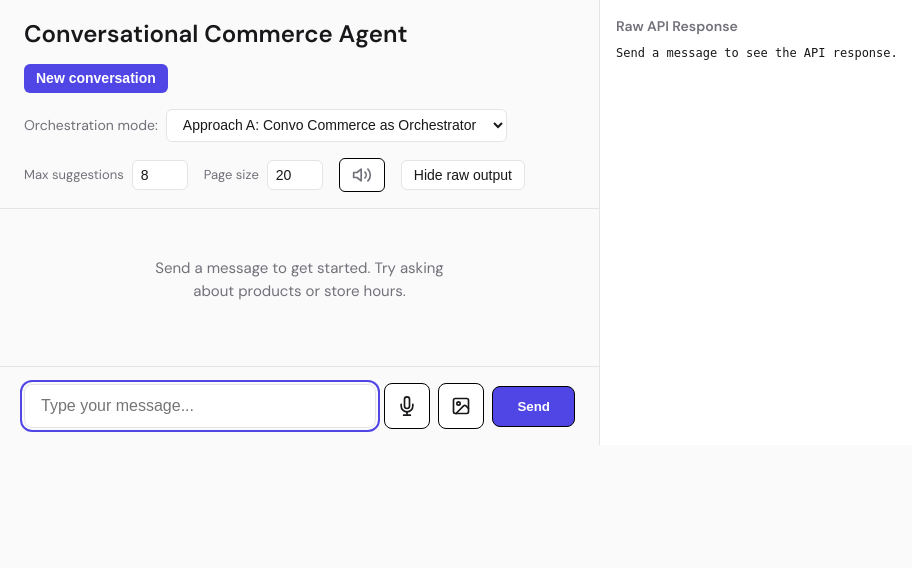
Test case: ChatInterface › retries failed message when Retry is clicked
In the field named "Chat message": {"x": 200, "y": 406} [24, 384, 376, 428], type "hello"
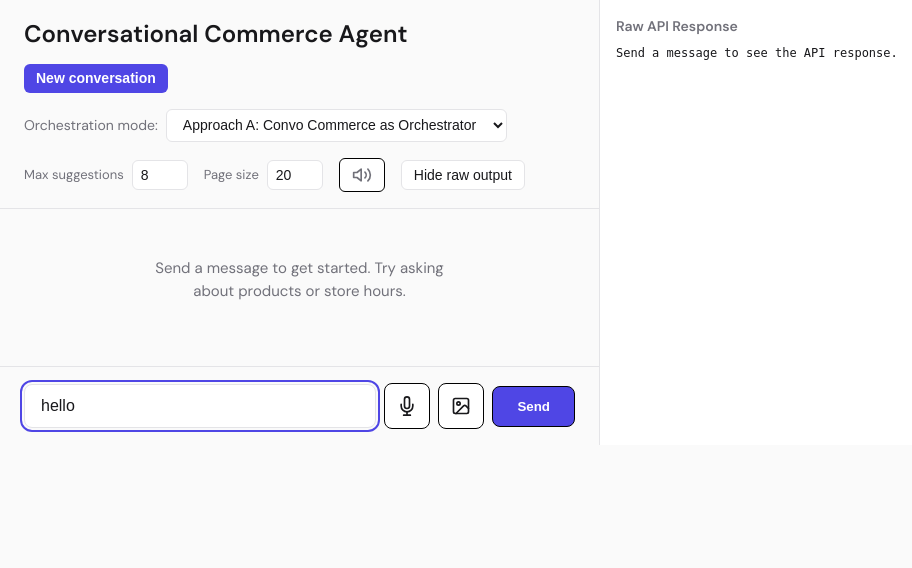
Click the button with aria-label "Send message": {"x": 534, "y": 406} [492, 386, 575, 427]
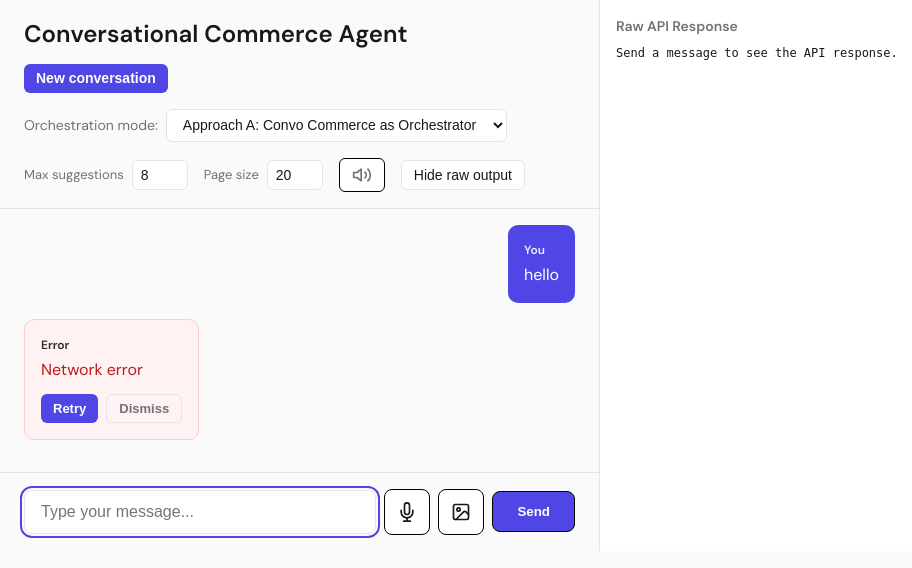
Expected: the text "Network error" is shown, [41, 359, 143, 380]
Click the button with aria-label "Retry sending message": {"x": 70, "y": 408} [41, 394, 98, 422]
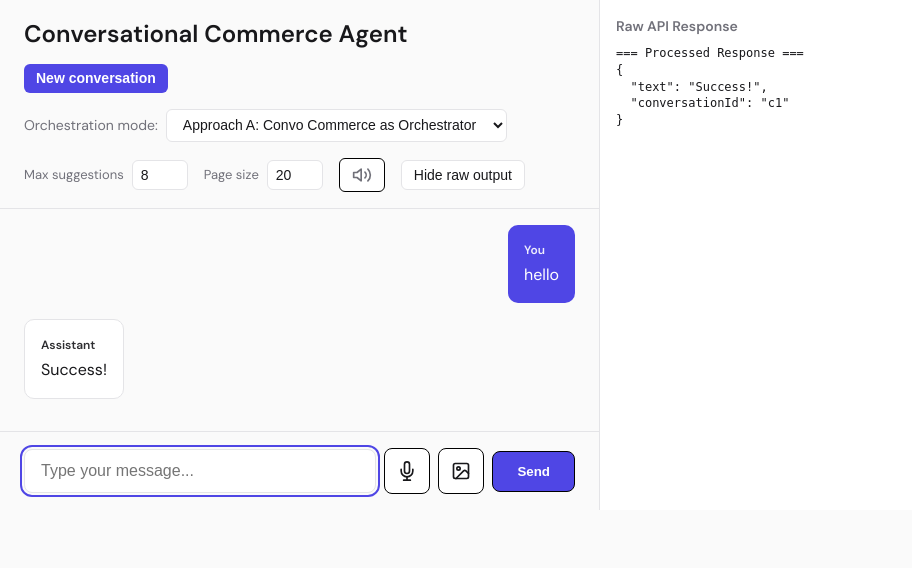
Expected: the text "Success!" is shown, [41, 358, 107, 382]
